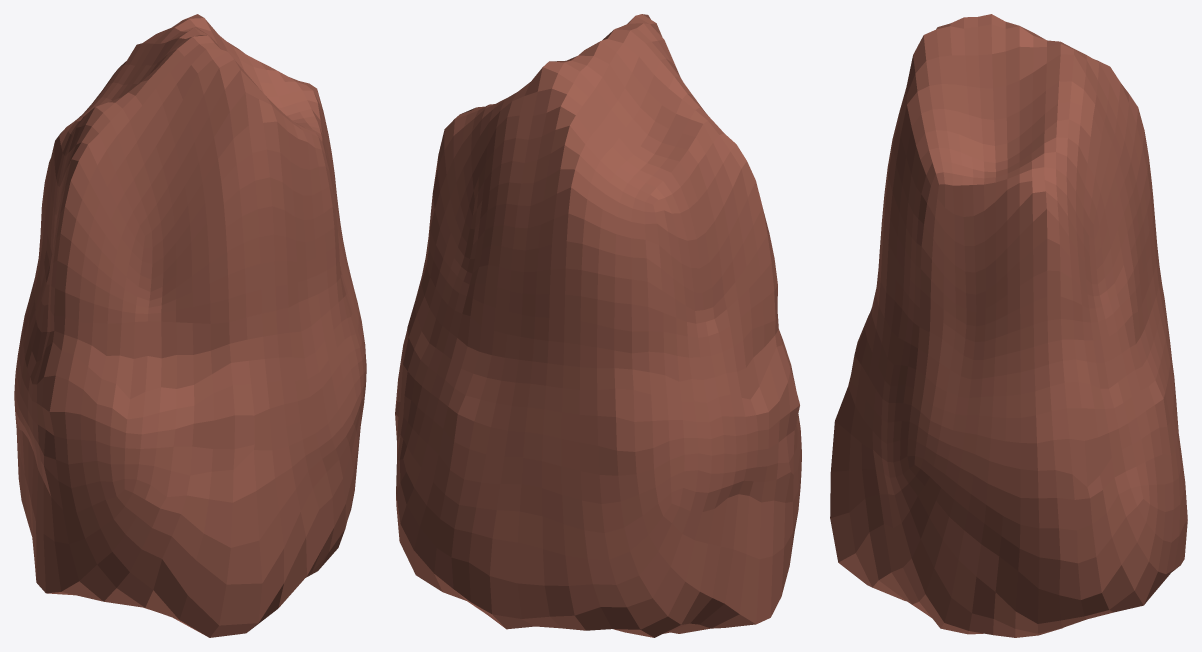
The model's file is rock5.fbx.
The picture shows the model from 3 angles, left to right: view 1: azimuth 30°, elevation 25°; view 2: azimuth 150°, elevation 25°; view 3: azimuth 270°, elevation 25°; orthographic projection. The views are drawn at different scales.
Visible parts, largest first — view 1: Cube; view 2: Cube; view 3: Cube.
Boxes of the visible parts, x1,y1,x2,y2 form: Cube: (14, 14, 366, 637); Cube: (395, 14, 801, 637); Cube: (830, 14, 1187, 637).
Size of the model in its own units: 556 by 865 by 485.
